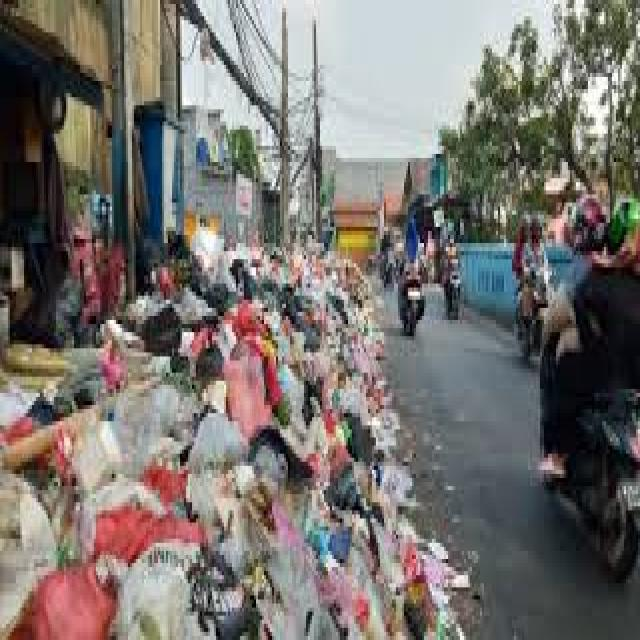trash: (1, 281, 389, 640)
